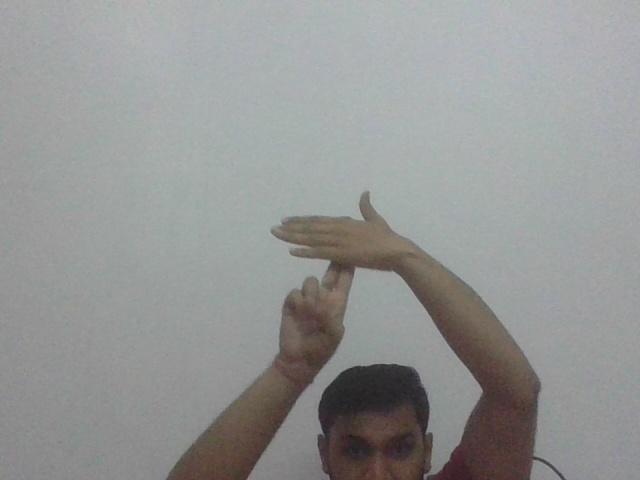N: (271, 210, 396, 292)
